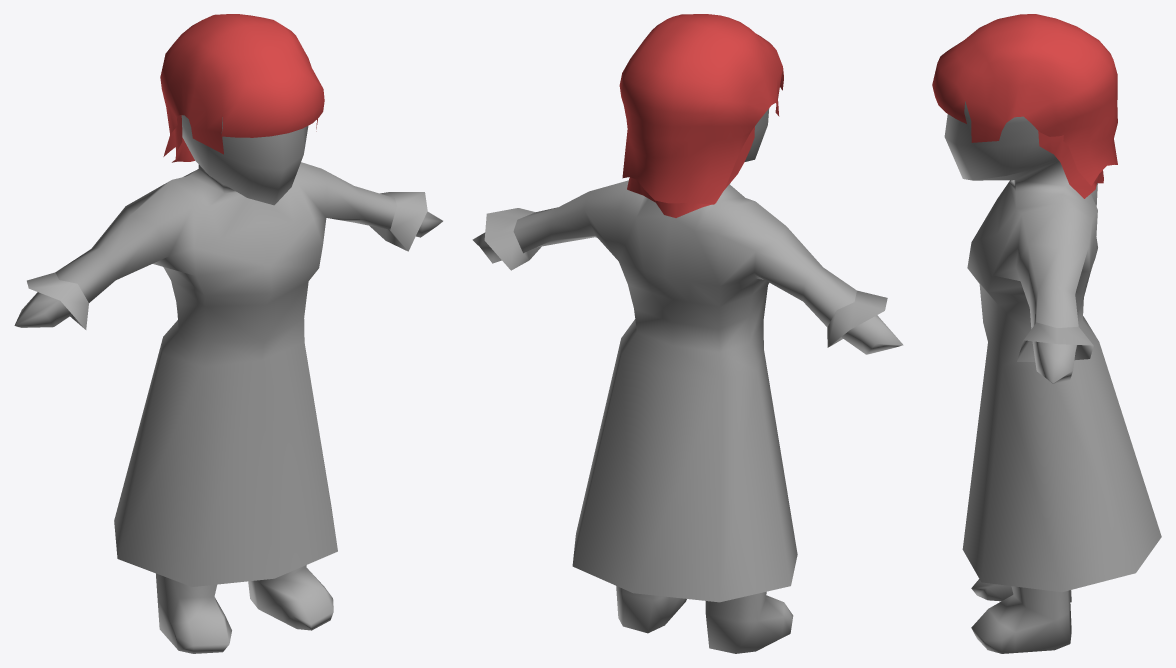
Rendered from villagerFemale.fbx.
3 renders of one model, left to right at view 1: azimuth 30°, elevation 25°; view 2: azimuth 150°, elevation 25°; view 3: azimuth 270°, elevation 25°, orthographic.
Parts seen in each view (by area): view 1: villager_geo; view 2: villager_geo; view 3: villager_geo.
Boxes of the visible parts, x1,y1,x2,y2 form: villager_geo: [14, 14, 442, 653]; villager_geo: [472, 14, 903, 653]; villager_geo: [932, 14, 1161, 653].
Size of the model in its own units: 1.95 by 2.61 by 0.9116.
